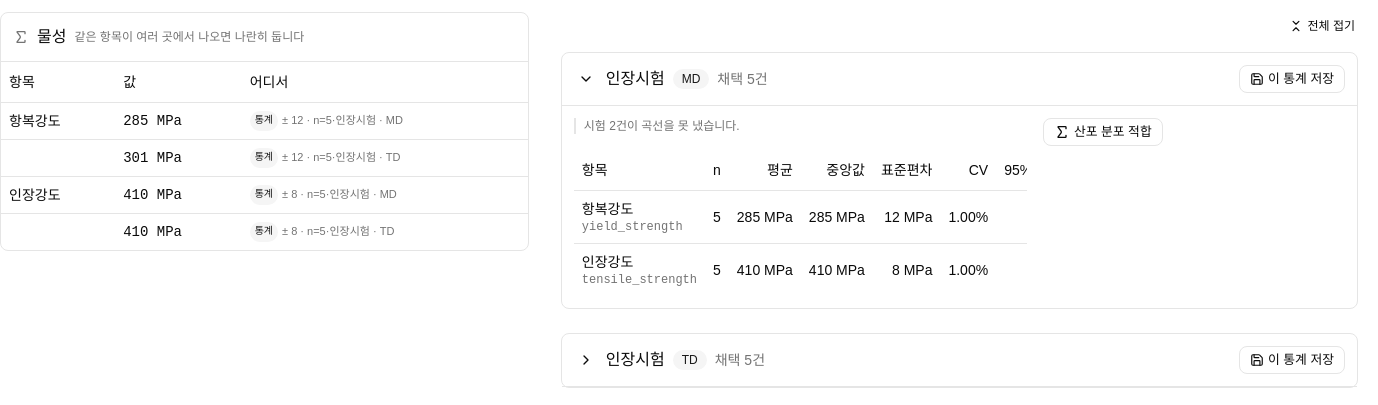
Test: 전체 여닫기 › 할 말이 있어 펴진 것도 함께 접힌다
Click the button "전체 접기": click(1322, 26) [1278, 12, 1366, 40]
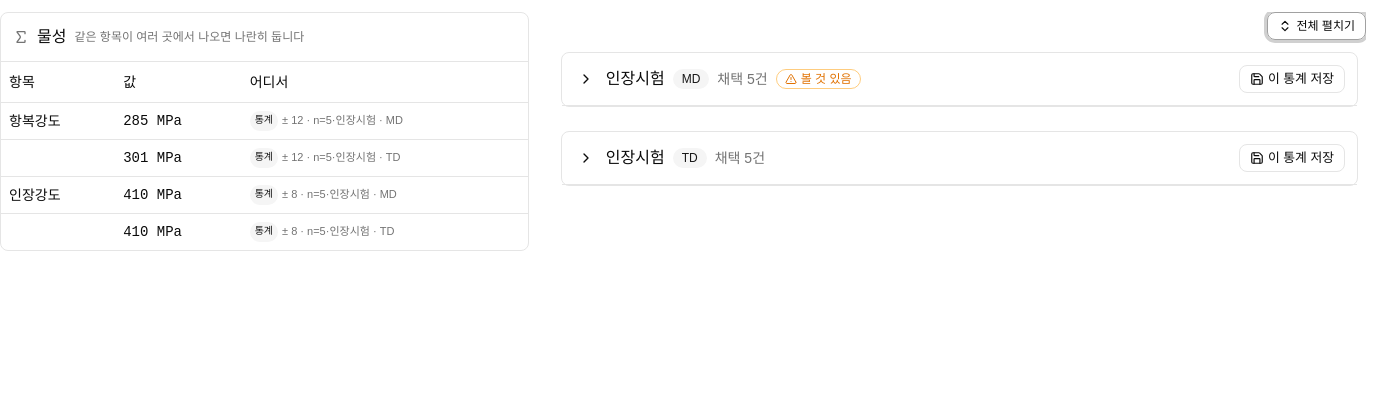
Now the button named "인장시험 MD 펼치기" is shown, box [574, 67, 598, 91]
